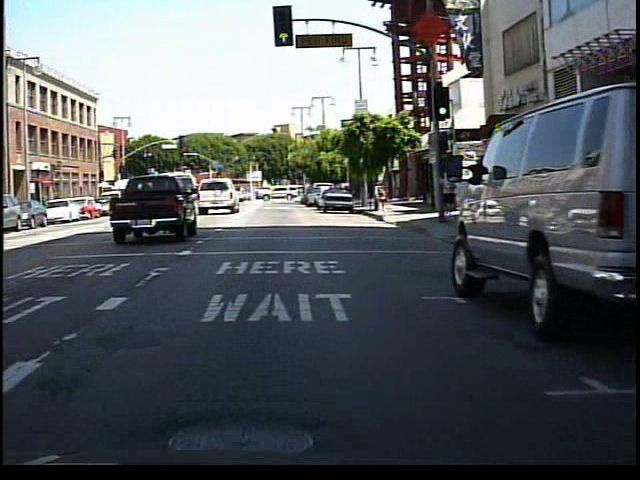person: (437, 165, 460, 224)
